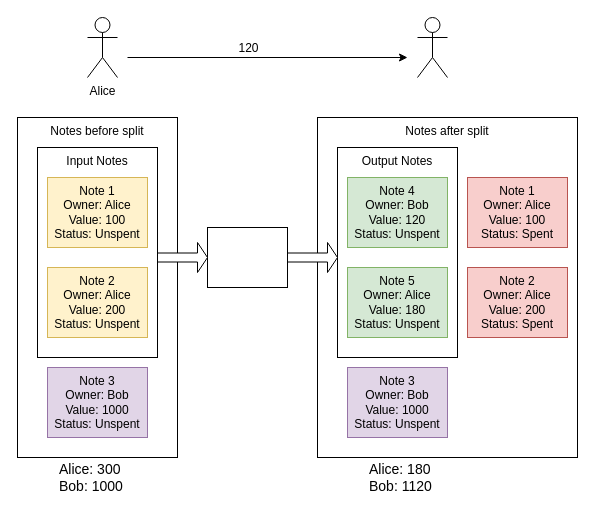
This 595x512 diagram has some shape labels left out. The shapes that lost their labels are listed below. From the top down, each one's centre as x and y in pixels, then its label:
At (432,47): "Bob".
At (247,257): "Join Split".
